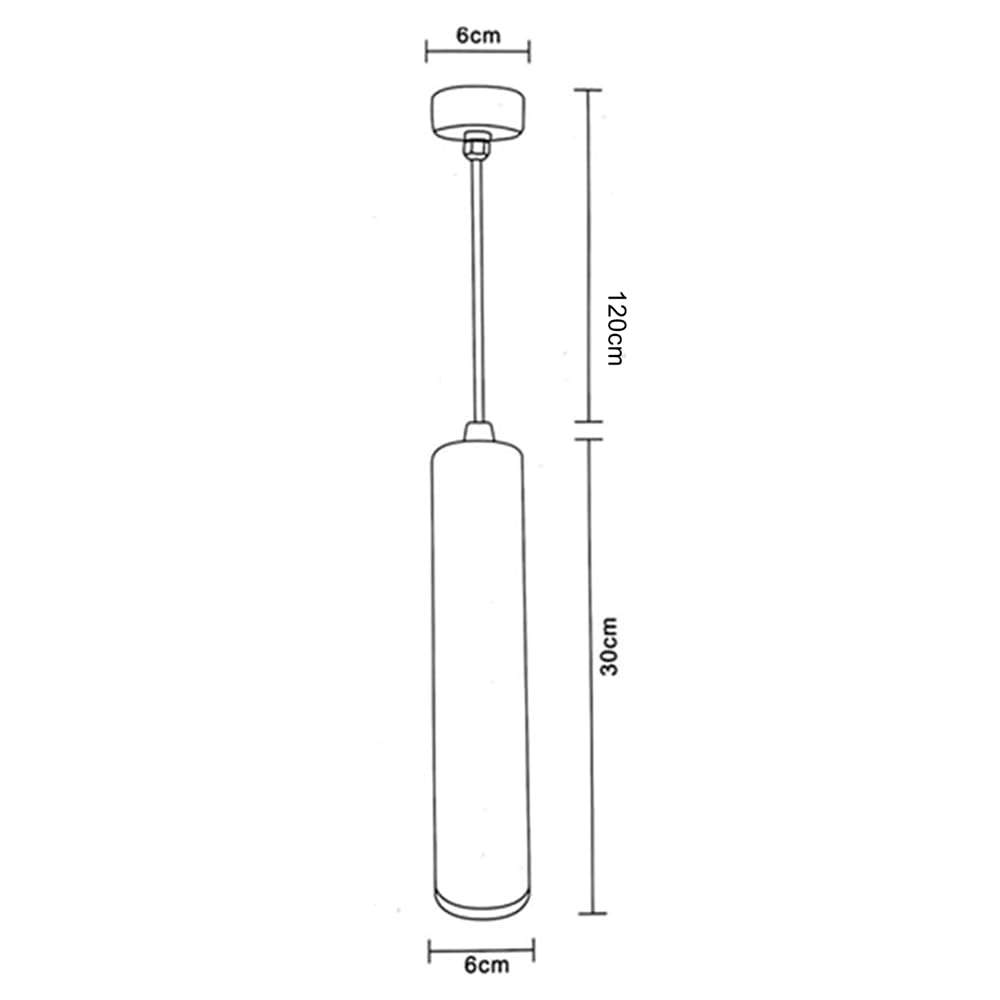120cm: (608, 292, 627, 365)
6cm: (464, 955, 509, 974), (456, 26, 501, 44)
